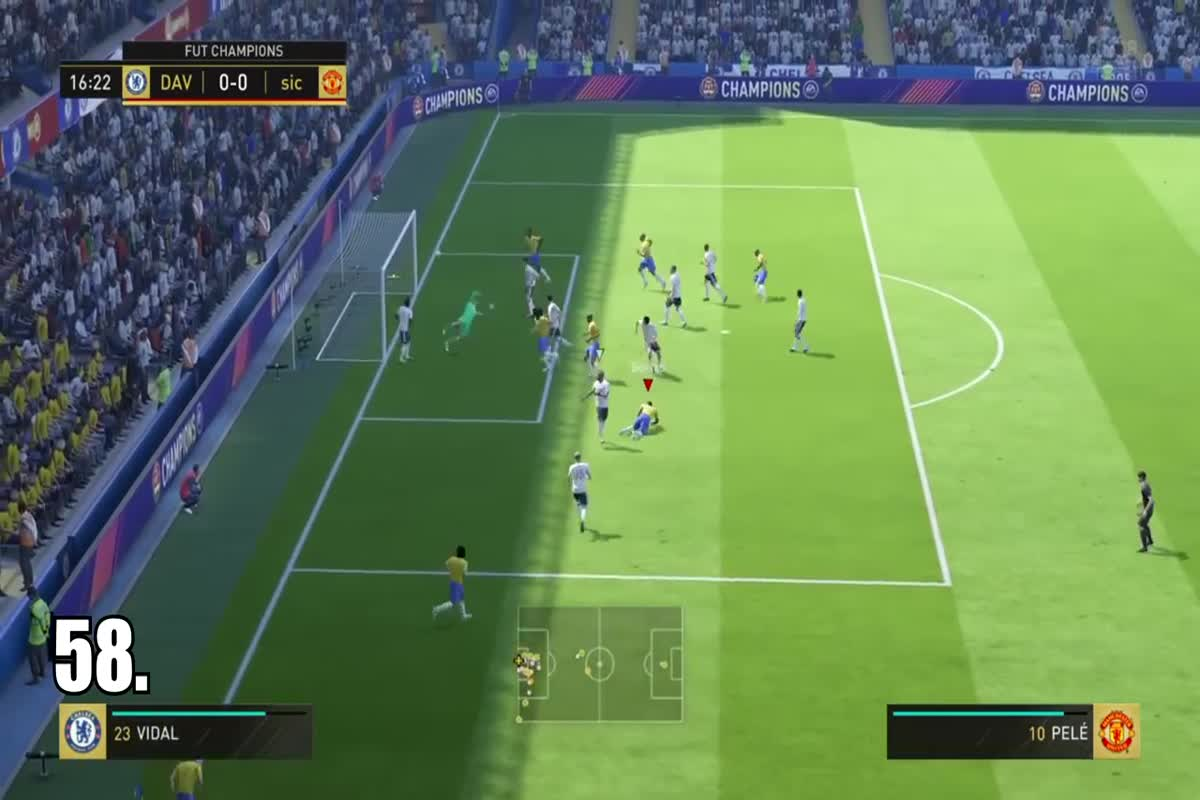ball: (484, 294, 503, 312)
